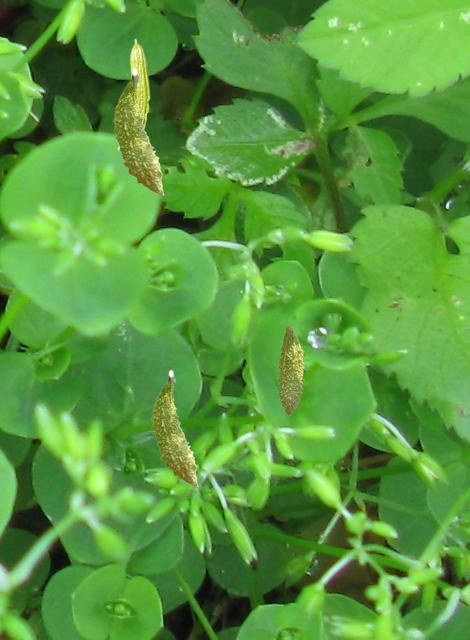ampalaya: (112, 67, 164, 195), (150, 369, 198, 487), (117, 38, 150, 150), (276, 325, 305, 416)
